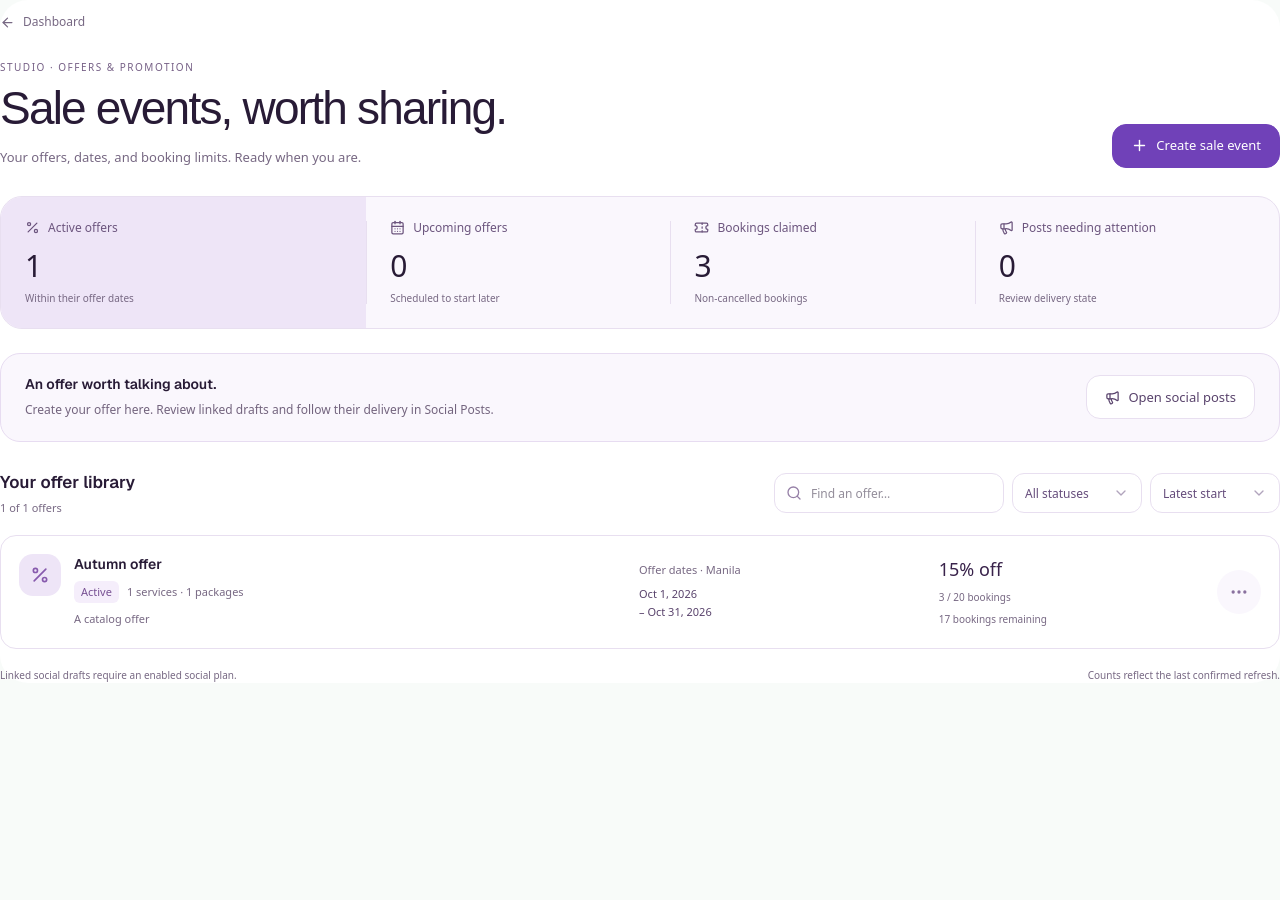
Test: redesign sale events › preserves scheduling and selections and reconciles confirmed updates through the cache
The width and height of the screenshot is (1280, 900).
Step 1. Press ArrowDown in the button named "Actions for Autumn offer", box [1217,570,1261,614]
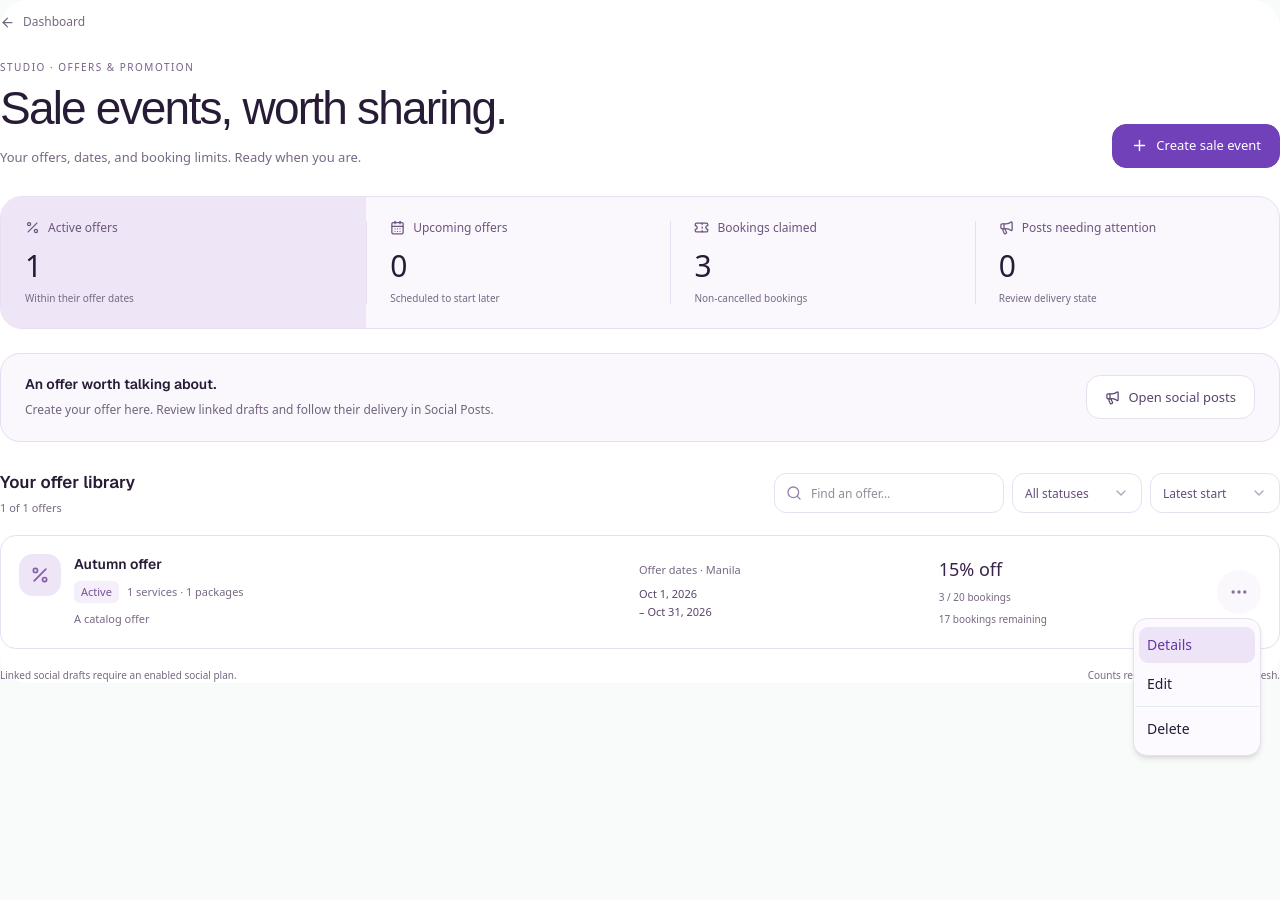
Step 2. Click the menu item "Edit" → [1160, 684], box [1147,674,1172,693]
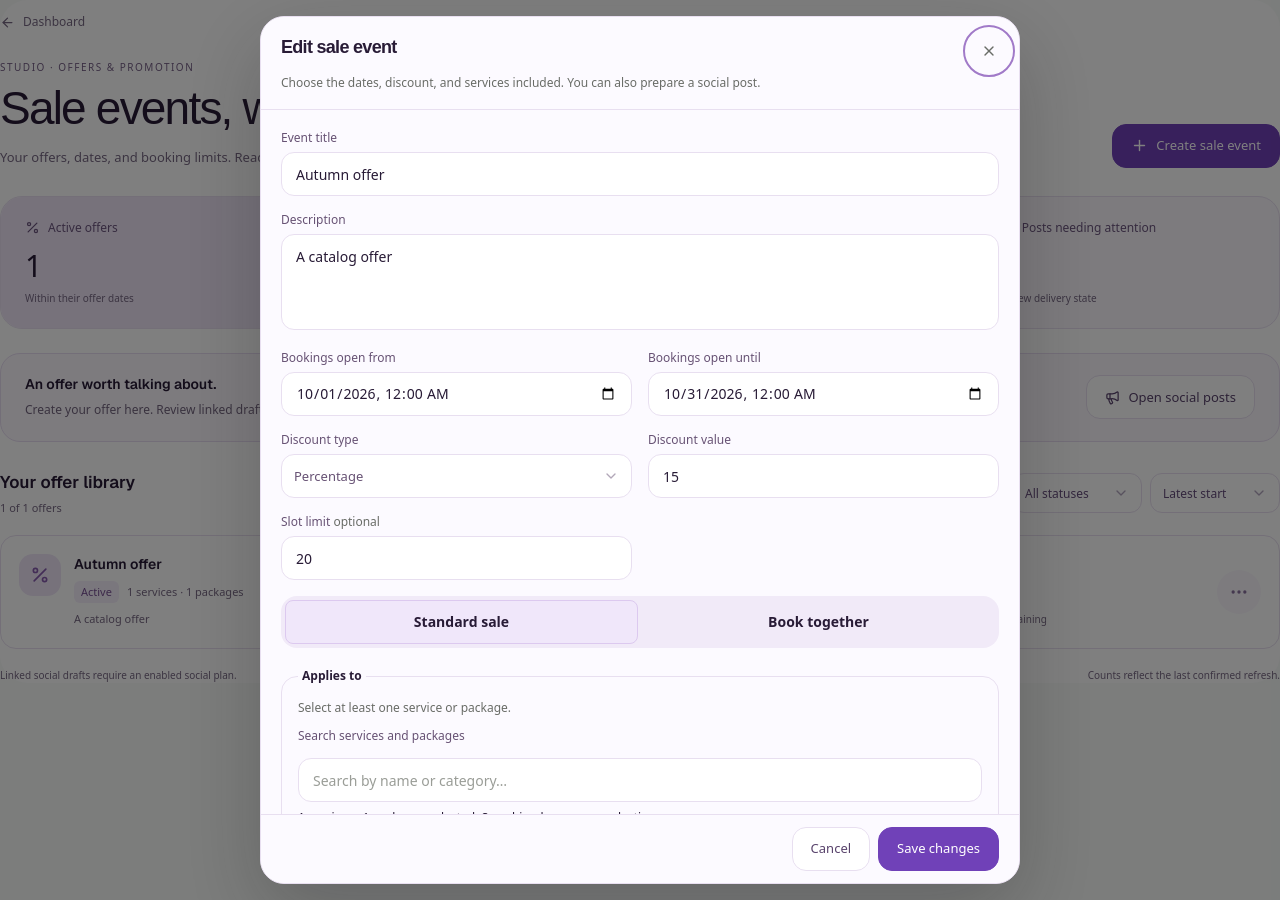
Step 3. Press ArrowDown in the dropdown named "Discount type", box [281,454,632,498]
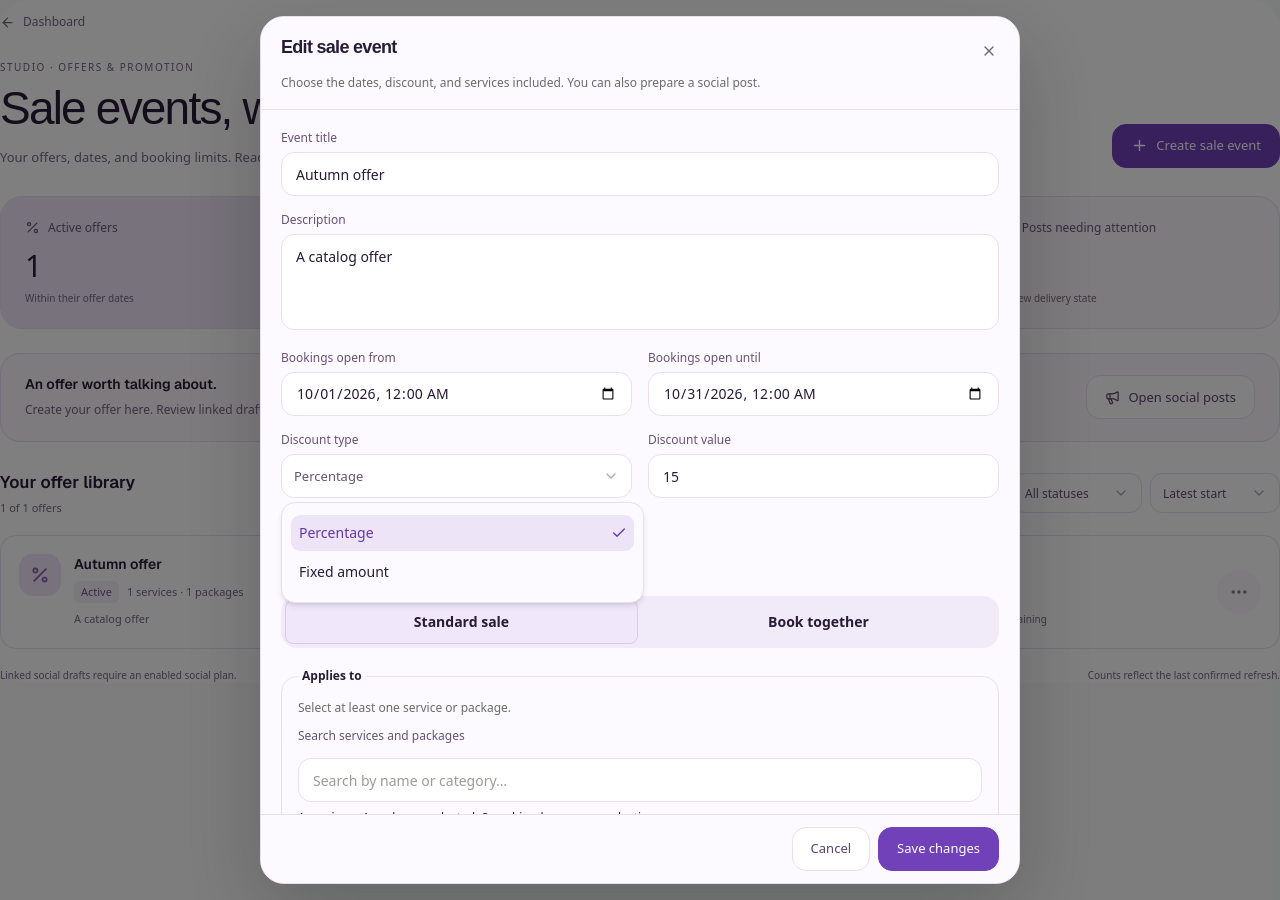
Step 4. Click the option "Fixed amount" → [344, 572], box [299,562,389,581]
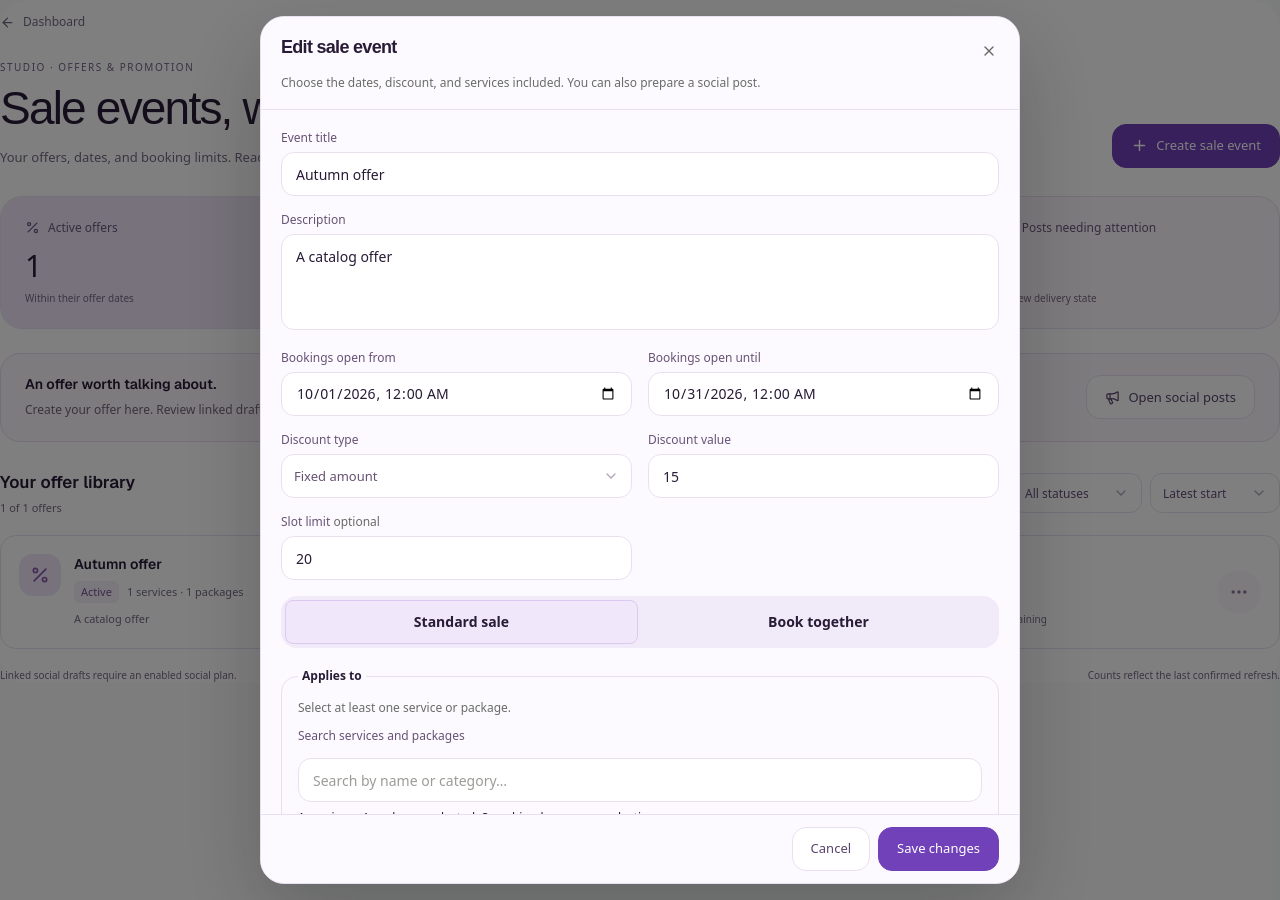
Step 5. Replace the text in the number field labelled "Discount value" with "250" → [824, 476], box [648,454,999,498]
(page scrolled)
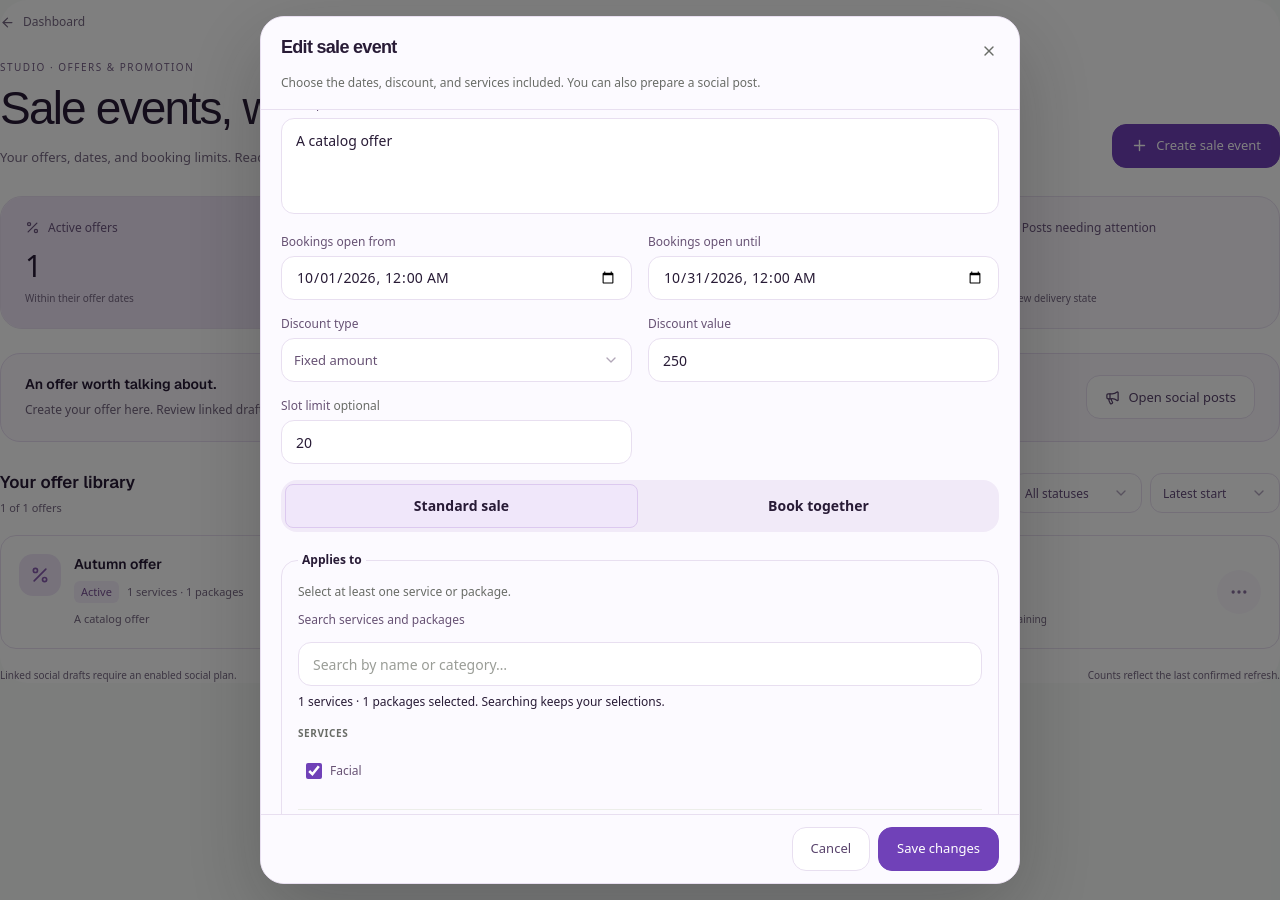
Step 6. Submit the form with id "sale-event-form"
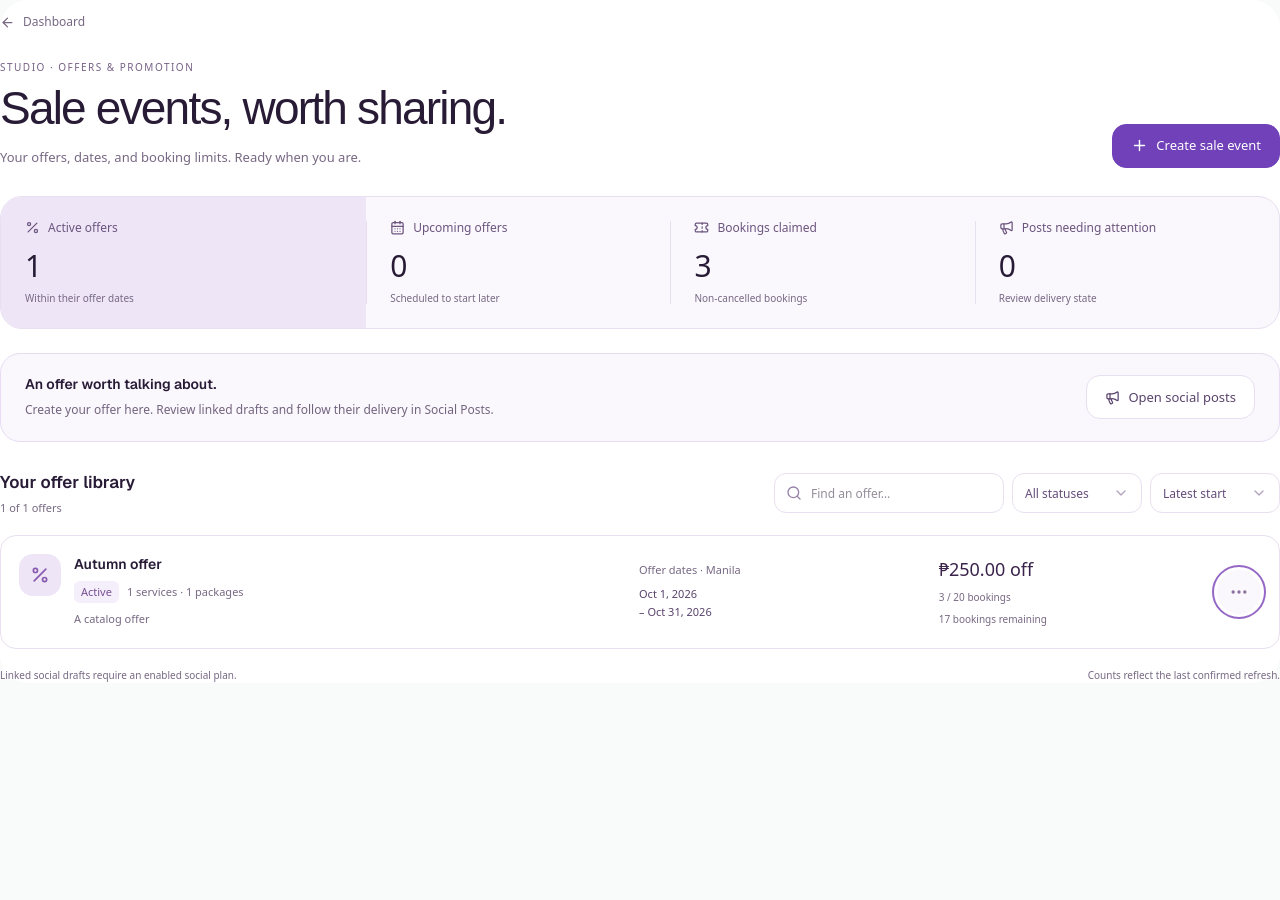
Expected: the dialog is gone
